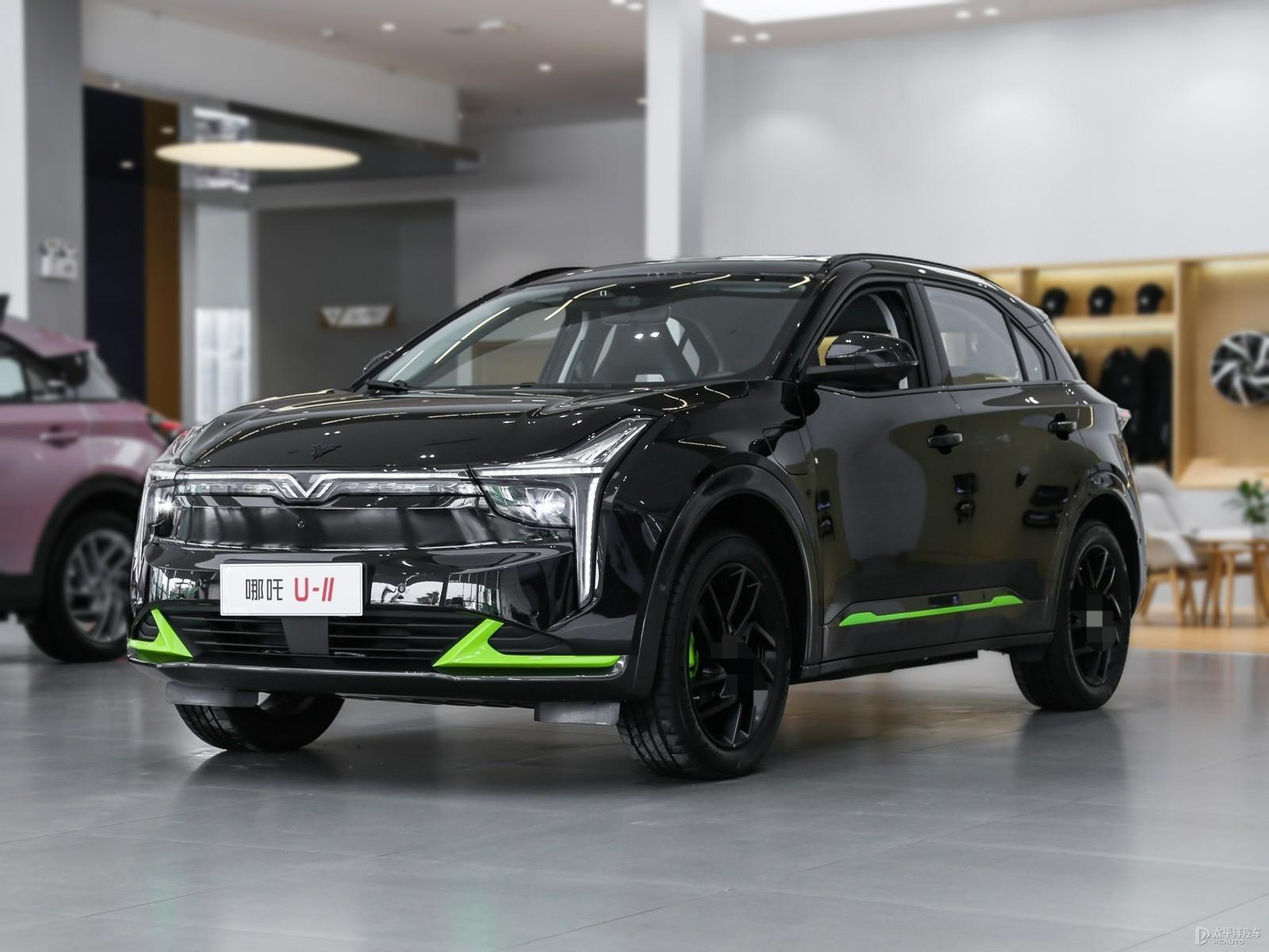NETA: (309, 442, 342, 461)
